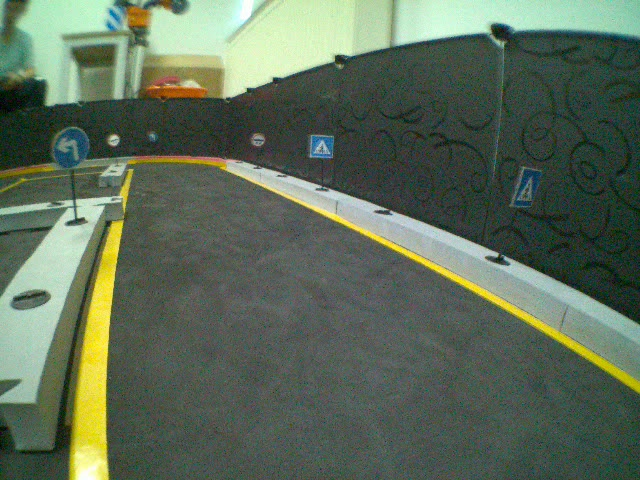Check: (251, 131, 267, 147)
crossing: (508, 164, 543, 209), (307, 133, 336, 160)
turn: (49, 127, 93, 168)
